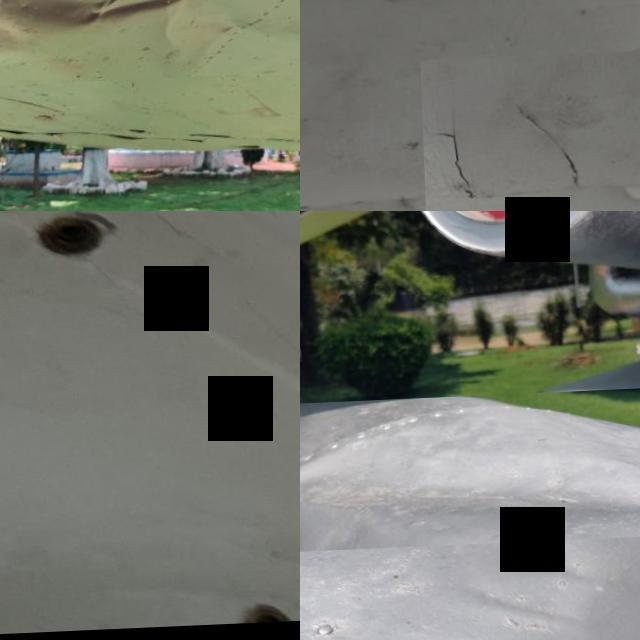Crack: (418, 54, 640, 211)
Dent: (300, 388, 640, 554), (0, 0, 300, 87), (447, 522, 620, 640)
Missing_Fastener: (26, 215, 111, 262), (242, 603, 289, 628)
